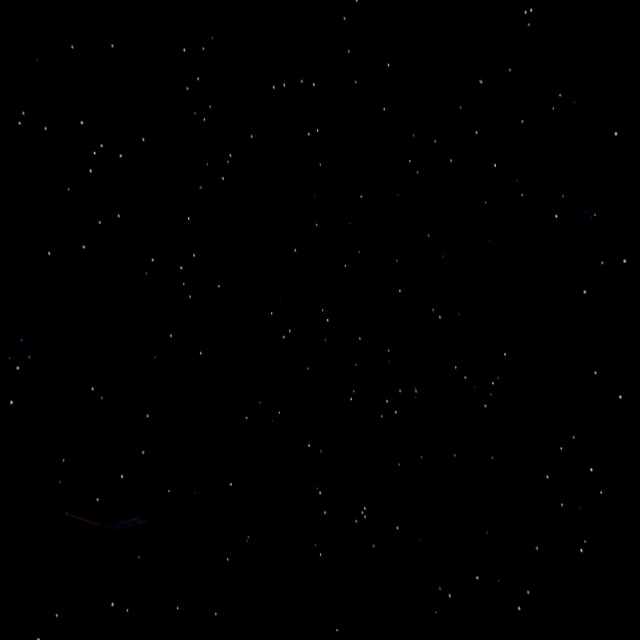medium_debris: (46, 461, 158, 637)
